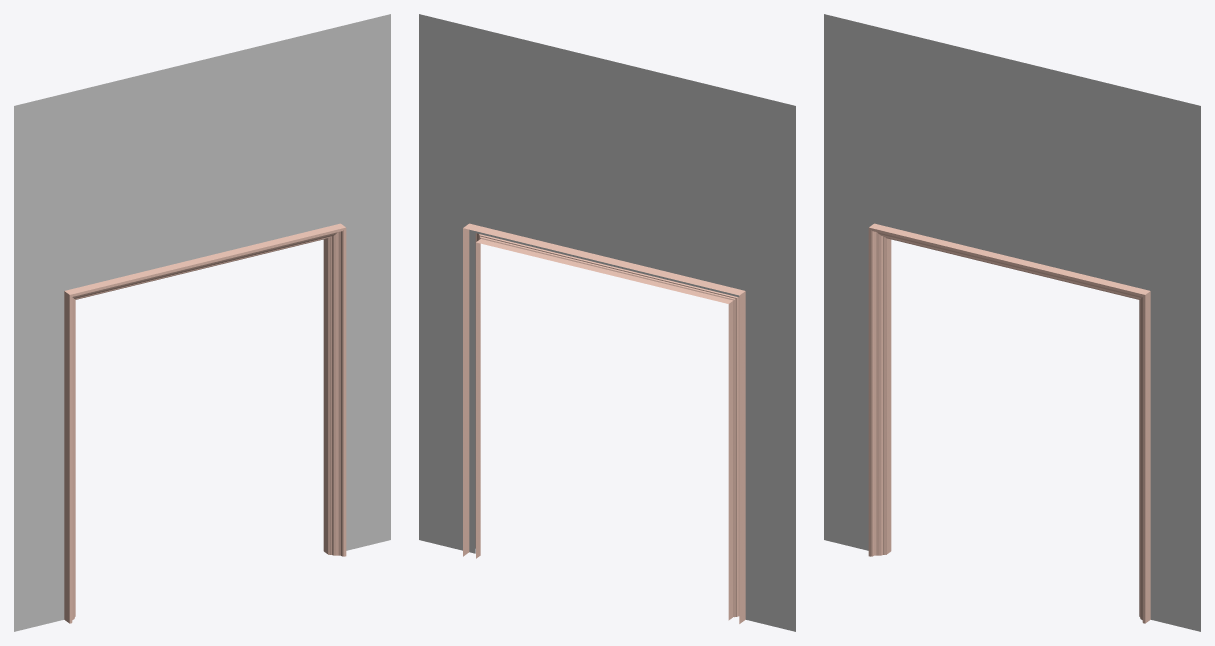
File: Shop_Wall_Doorframe.fbx
The picture shows the model from 3 angles, left to right: view 1: azimuth 30°, elevation 25°; view 2: azimuth 150°, elevation 25°; view 3: azimuth 330°, elevation 25°; orthographic projection.
Parts seen in each view (by area): view 1: Wall_Doorframe; view 2: Wall_Doorframe; view 3: Wall_Doorframe.
Boxes of the visible parts, box(x1,y1,x2,y2) form: Wall_Doorframe: box(14, 14, 390, 631); Wall_Doorframe: box(419, 14, 795, 631); Wall_Doorframe: box(824, 14, 1200, 631).
Size of the model in its own units: 300 by 400 by 16.21.
